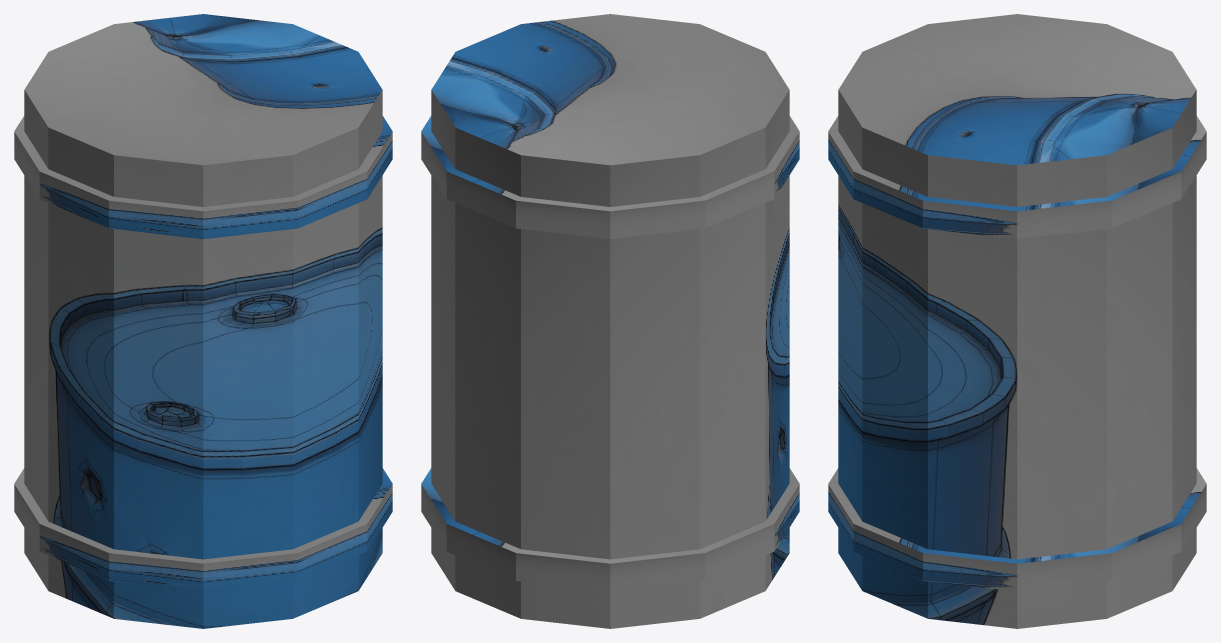
File: barrel.glb
The picture shows the model from 3 angles, left to right: view 1: azimuth 30°, elevation 25°; view 2: azimuth 150°, elevation 25°; view 3: azimuth 270°, elevation 25°; orthographic projection.
Visible parts, largest first — view 1: Cylinder; view 2: Cylinder; view 3: Cylinder.
Part boxes in pixels (bbox=[...]): Cylinder: bbox=[14, 14, 392, 628]; Cylinder: bbox=[421, 14, 799, 628]; Cylinder: bbox=[828, 14, 1206, 628].
Size of the model in its own units: 0.74 by 1 by 0.74.
Materials: 1 (1 with a texture image).
